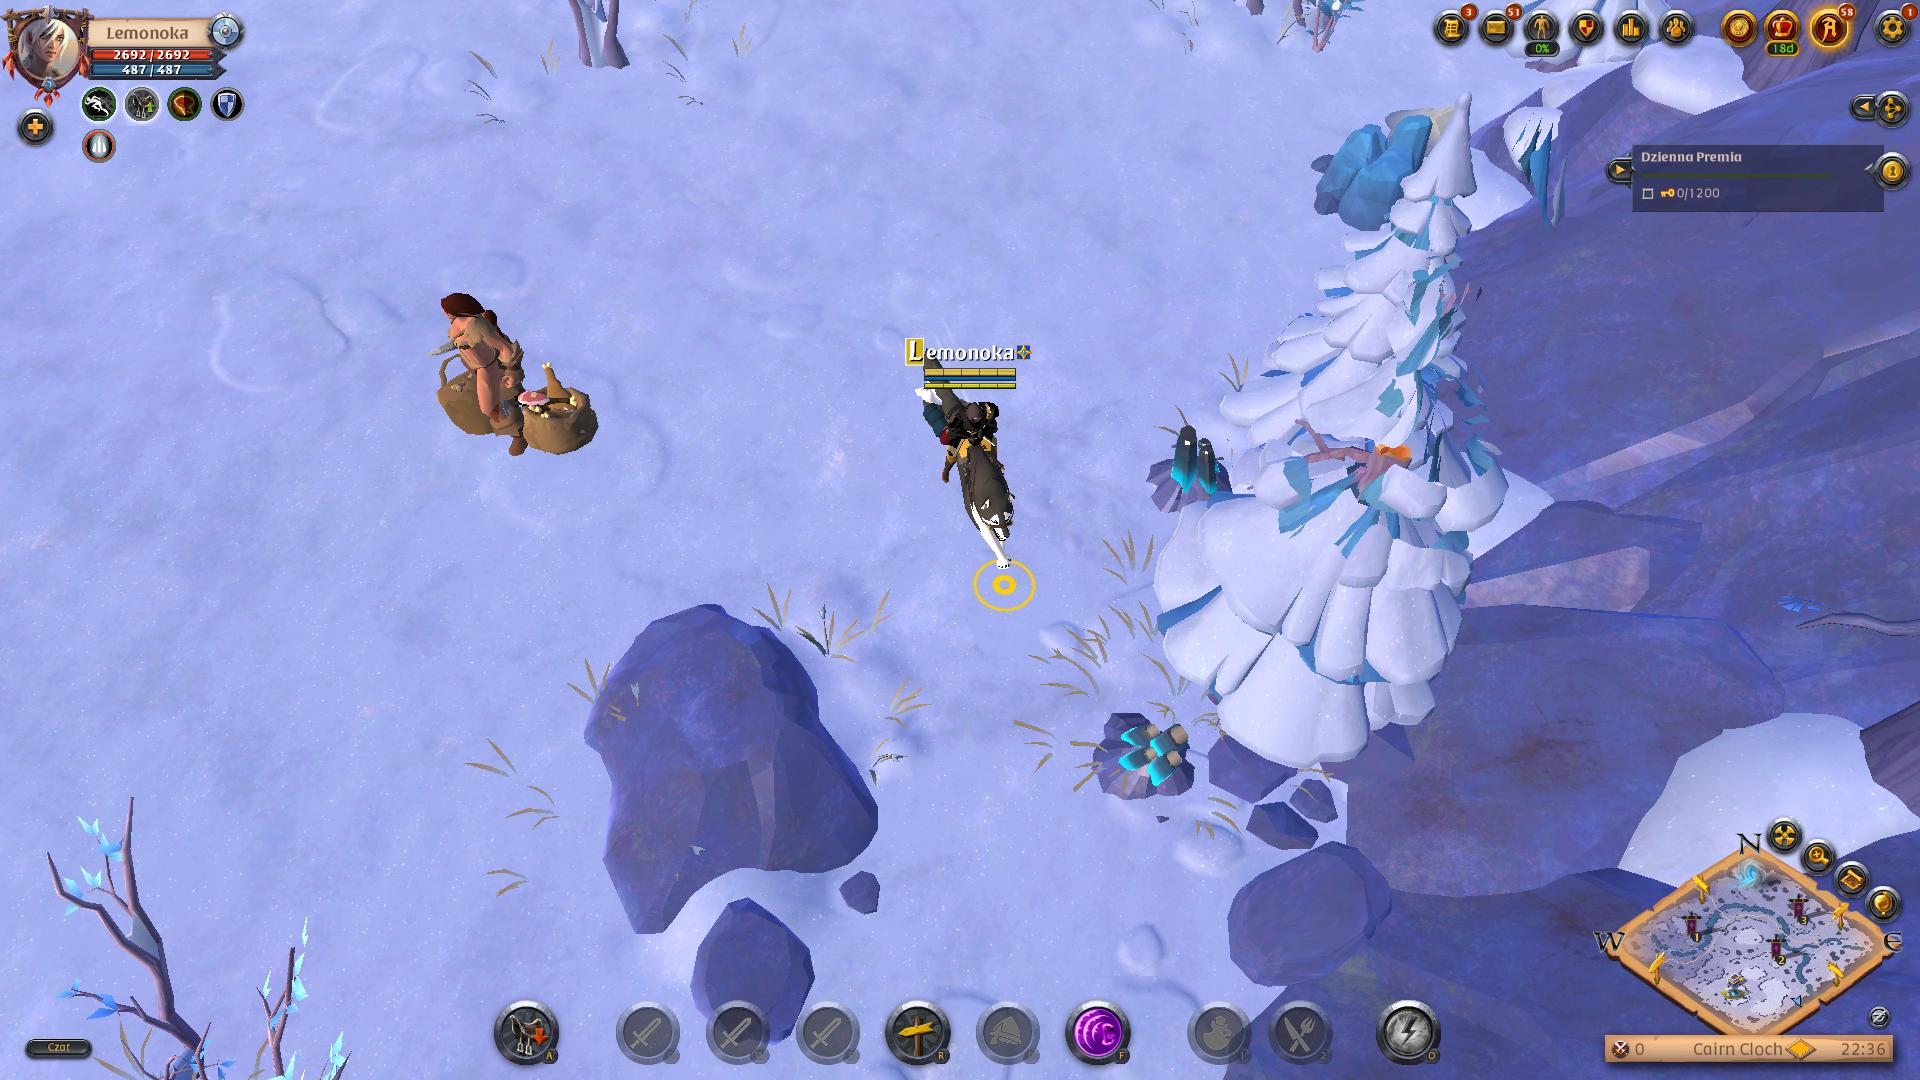ore tier 4: (1091, 703, 1199, 803), (1145, 425, 1236, 513)
rock tier 4: (1307, 113, 1433, 233)
